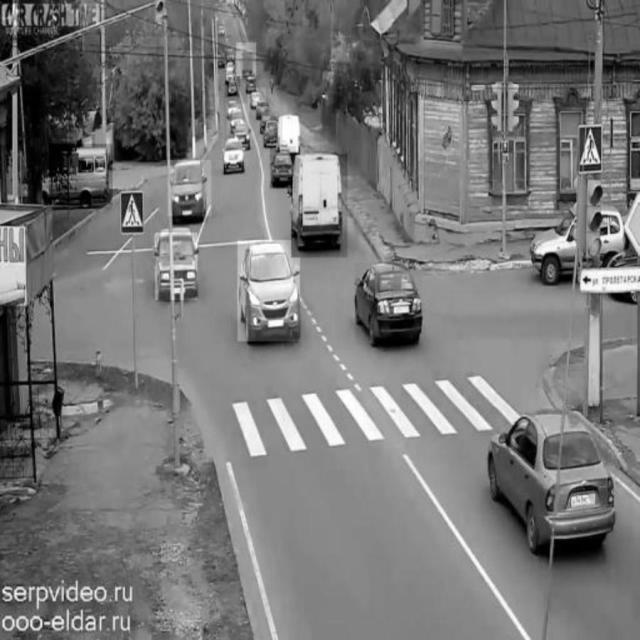vehicle: (490, 403, 616, 565), (532, 205, 625, 281), (238, 241, 300, 342), (292, 154, 348, 257), (356, 262, 422, 344), (49, 144, 113, 205), (155, 232, 199, 300), (167, 161, 211, 217), (270, 147, 296, 189), (222, 139, 248, 173), (236, 43, 256, 79), (227, 104, 249, 134), (263, 116, 283, 146), (247, 88, 265, 112), (225, 77, 240, 97)
